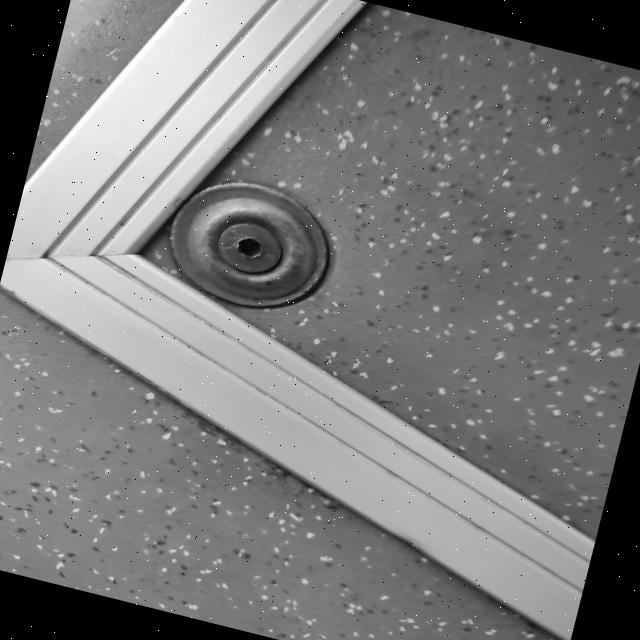Hex Socket Allen: (202, 207, 295, 283)
